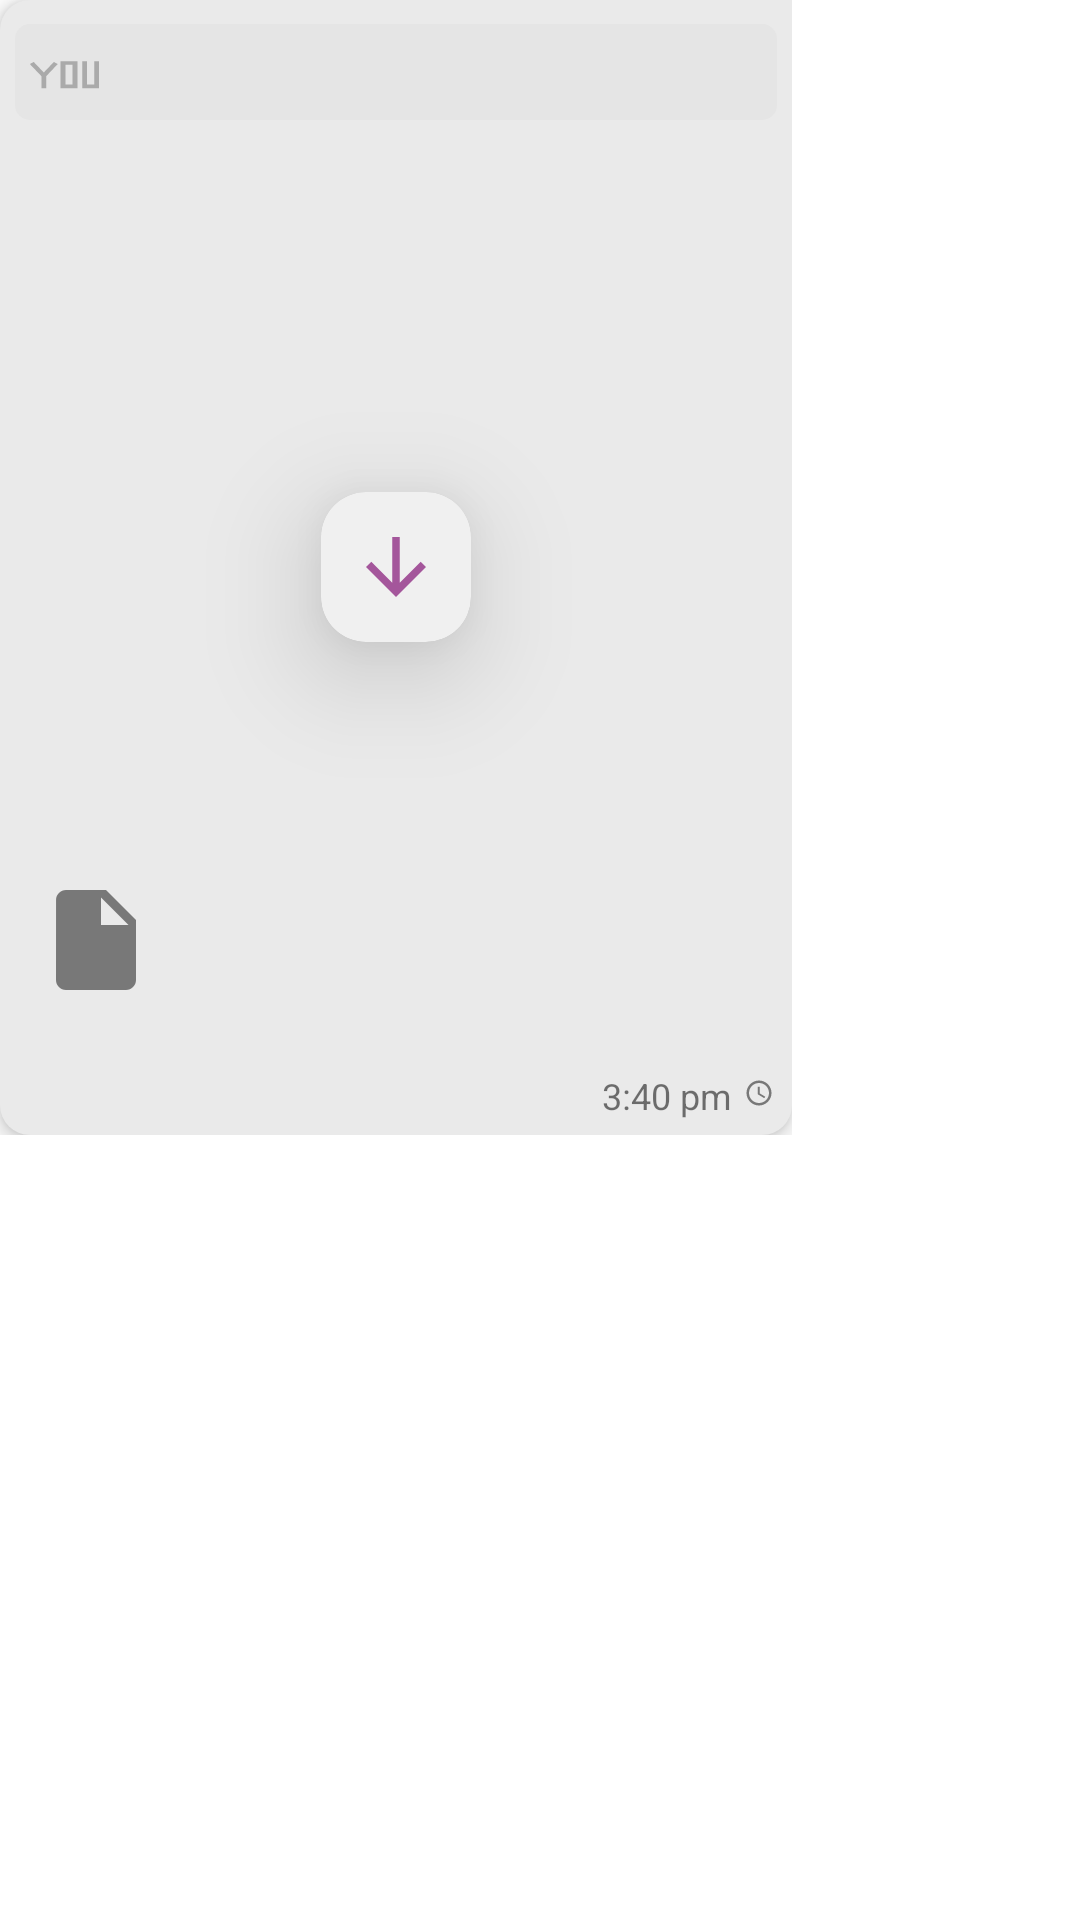

Locate icon controls on the screen. Image size 1080px×1920px, boxes as Rect(x1, y1, x2, y2).
access time: Rect(746, 1080, 772, 1106)
